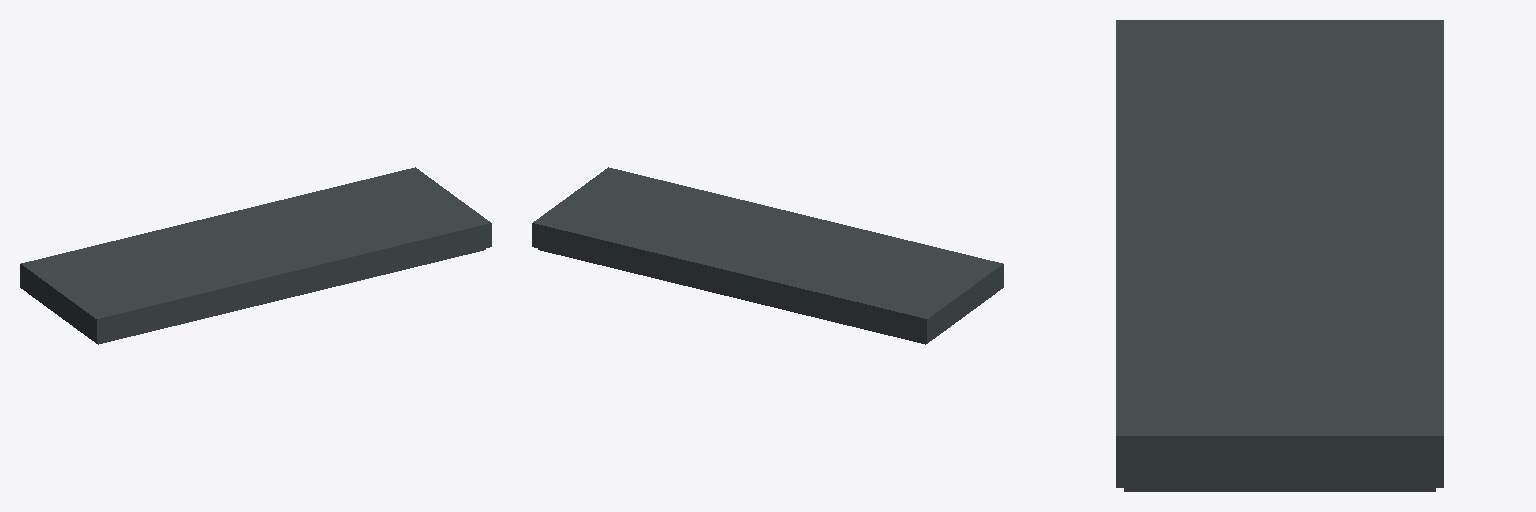
robot.urdf — 69729__dark_bluish_gray:
<?xml version="1.0"?>
<robot name="69729__dark_bluish_gray">
  <link name="69729__dark_bluish_gray">
    <inertial>
      <origin xyz="0.000000 -0.000000 -0.001594" rpy="0 0 0"/>
      <mass value="0.002570"/>
      <inertia ixx="5.667820268e-08" ixy="-0.000000000e+00" ixz="-1.130910994e-25" iyy="4.946025752e-07" iyz="5.768246203e-26" izz="5.469229933e-07"/>
    </inertial>
    <visual>
      <geometry>
        <mesh filename="../meshes/visual/69729.obj" scale="1 1 1"/>
      </geometry>
      <material name="69729__dark_bluish_gray_color">
        <color rgba="0.320 0.350 0.360 1.000"/>
      </material>
    </visual>
    <collision>
      <geometry>
        <mesh filename="../meshes/collision/69729_hull.obj" scale="1 1 1"/>
      </geometry>
    </collision>
  </link>
</robot>

--- What the picture shows (computed from the rendered views, not written in the file) ---
The picture shows the robot from 3 angles, left to right: view 1: azimuth 30°, elevation 25°; view 2: azimuth 150°, elevation 25°; view 3: azimuth 270°, elevation 25°; orthographic projection.
Model 69729__dark_bluish_gray with 1 links and 0 joints (none), rooted at 69729__dark_bluish_gray, posed all joints at 0.
Visible links, largest first — view 1: 69729__dark_bluish_gray; view 2: 69729__dark_bluish_gray; view 3: 69729__dark_bluish_gray.
Link boxes in pixels (x1,y1,x2,y2): 69729__dark_bluish_gray: (20, 167, 491, 344); 69729__dark_bluish_gray: (532, 167, 1003, 344); 69729__dark_bluish_gray: (1116, 20, 1443, 491).
Size in the robot's own frame: 0.048 by 0.016 by 0.0032 metres.
1 mesh visuals loaded from 1 distinct referenced files (1 OBJ).
